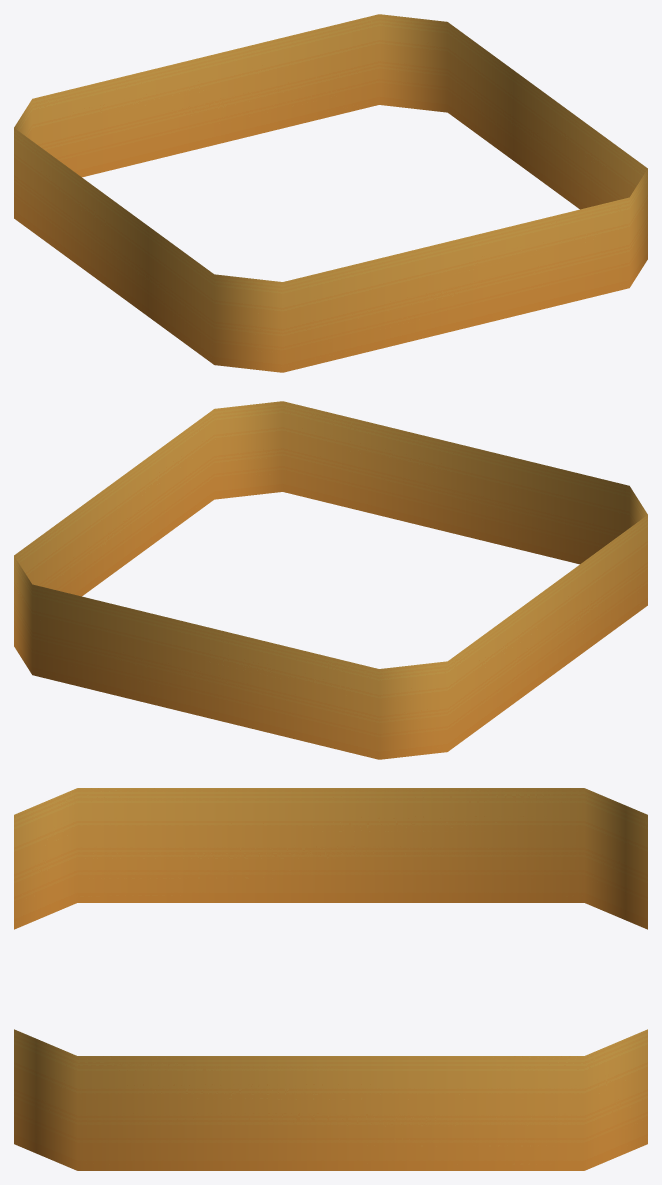
The model's file is tower-defense-kit--selection-b.glb.
3 views of the same model, one above another, from view 1: azimuth 30°, elevation 25°; view 2: azimuth 150°, elevation 25°; view 3: azimuth 270°, elevation 25° (orthographic). The views are drawn at different scales.
Parts seen in each view (by area): view 1: selection-b; view 2: selection-b; view 3: selection-b.
Part boxes in pixels (x1,y1,x2,y2): selection-b: (14,14,647,372); selection-b: (14,401,647,759); selection-b: (14,788,647,1170).
Bounding box in the file's own units: 1 × 0.2 × 1.
Materials: 1 (1 with a texture image).
